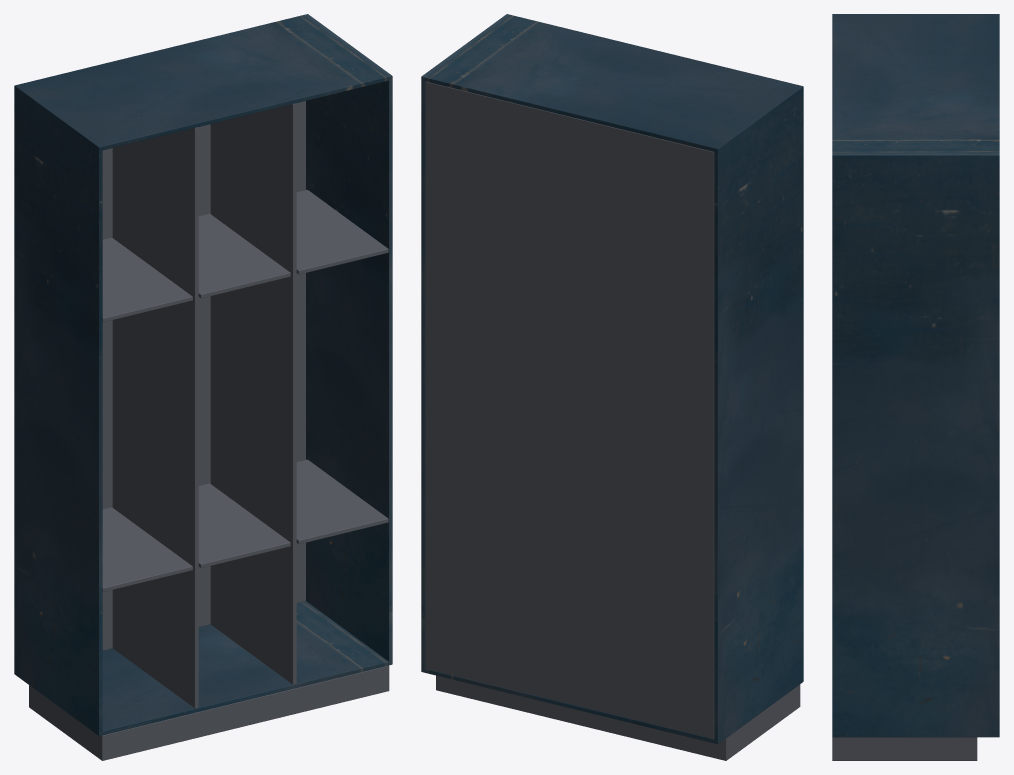
The model's file is locker_bank.glb.
3 views of the same model, side by side, from view 1: azimuth 30°, elevation 25°; view 2: azimuth 150°, elevation 25°; view 3: azimuth 270°, elevation 25° (orthographic). The views are drawn at different scales.
Visible parts, largest first — view 1: LockerBank; view 2: LockerBank; view 3: LockerBank.
Part boxes in pixels (<box>): LockerBank: <box>14,14,392,760</box>; LockerBank: <box>421,14,803,760</box>; LockerBank: <box>832,14,999,760</box>.
Size of the model in its own units: 1.08 by 2.16 by 0.54.
3 materials, 1 textured.
